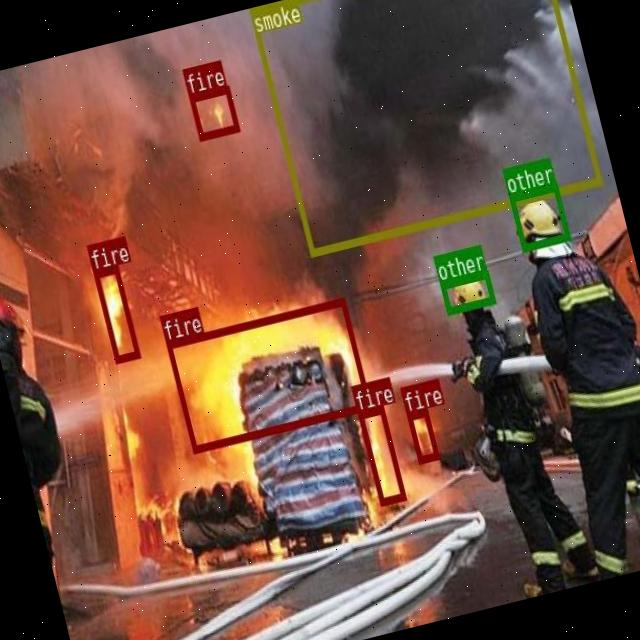fire: (166, 296, 370, 452), (356, 406, 404, 505), (92, 265, 140, 362), (188, 85, 238, 139), (406, 406, 438, 462)
smoke: (248, 0, 602, 254)
